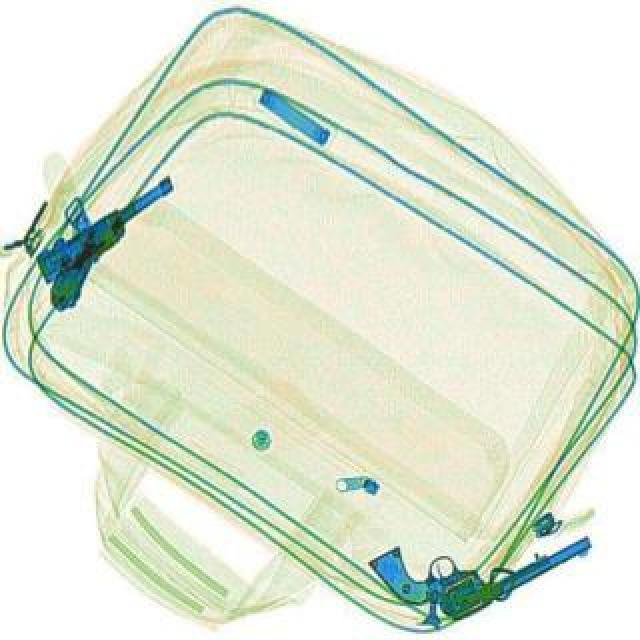gun: (374, 466, 598, 638), (20, 170, 208, 314)
